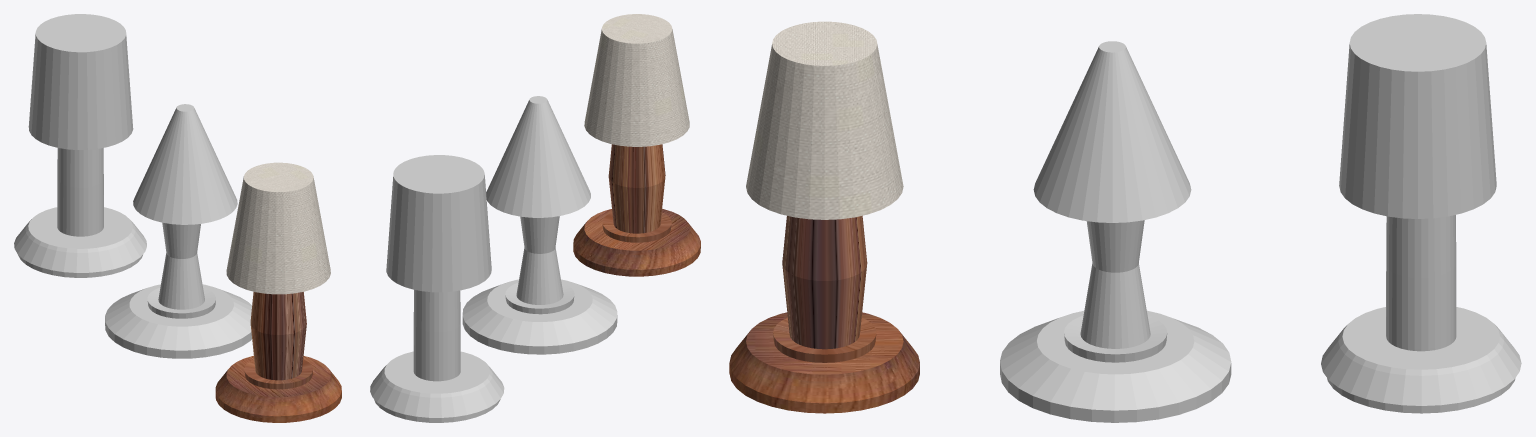
Rendered from lampd.fbx.
3 renders of one model, left to right at view 1: azimuth 30°, elevation 25°; view 2: azimuth 150°, elevation 25°; view 3: azimuth 270°, elevation 25°, orthographic. The views are drawn at different scales.
Parts seen in each view (by area): view 1: Cylinder.005, Cylinder.002, Cylinder.001, Cylinder, Cylinder.004, Cylinder.003; view 2: Cylinder.005, Cylinder.002, Cylinder.001, Cylinder, Cylinder.004, Cylinder.003; view 3: Cylinder.005, Cylinder.002, Cylinder.001, Cylinder, Cylinder.004, Cylinder.003.
Part boxes in pixels (x1=…): Cylinder.005: x1=28, y1=14, x2=133, y2=149; Cylinder.002: x1=105, y1=222, x2=251, y2=358; Cylinder.001: x1=226, y1=162, x2=330, y2=294; Cylinder: x1=215, y1=292, x2=341, y2=422; Cylinder.004: x1=14, y1=148, x2=146, y2=277; Cylinder.003: x1=133, y1=104, x2=237, y2=224; Cylinder.005: x1=386, y1=155, x2=491, y2=292; Cylinder.002: x1=462, y1=216, x2=617, y2=354; Cylinder.001: x1=584, y1=14, x2=689, y2=146; Cylinder: x1=573, y1=144, x2=700, y2=276; Cylinder.004: x1=370, y1=289, x2=504, y2=422; Cylinder.003: x1=486, y1=96, x2=590, y2=217; Cylinder.005: x1=1339, y1=14, x2=1496, y2=218; Cylinder.002: x1=1000, y1=220, x2=1231, y2=422; Cylinder.001: x1=746, y1=21, x2=903, y2=219; Cylinder: x1=729, y1=215, x2=919, y2=413; Cylinder.004: x1=1321, y1=215, x2=1521, y2=413; Cylinder.003: x1=1033, y1=41, x2=1191, y2=222.
Size of the model in its own units: 294 by 463 by 1005.
